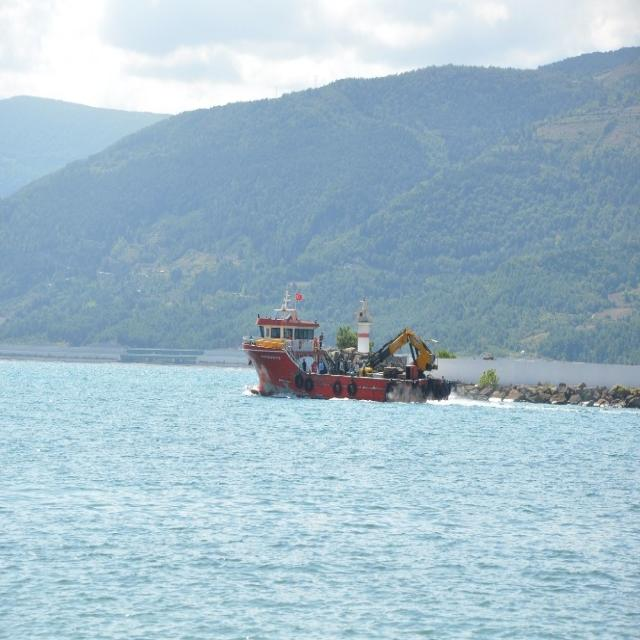fishing boat: (238, 287, 451, 407)
